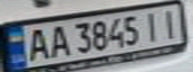3: (69, 19, 93, 54)
4: (106, 16, 127, 50)
5: (121, 12, 145, 46)
8: (90, 17, 112, 52)
A: (21, 26, 51, 62), (45, 22, 72, 58)
I: (139, 8, 166, 41), (157, 7, 184, 38)
